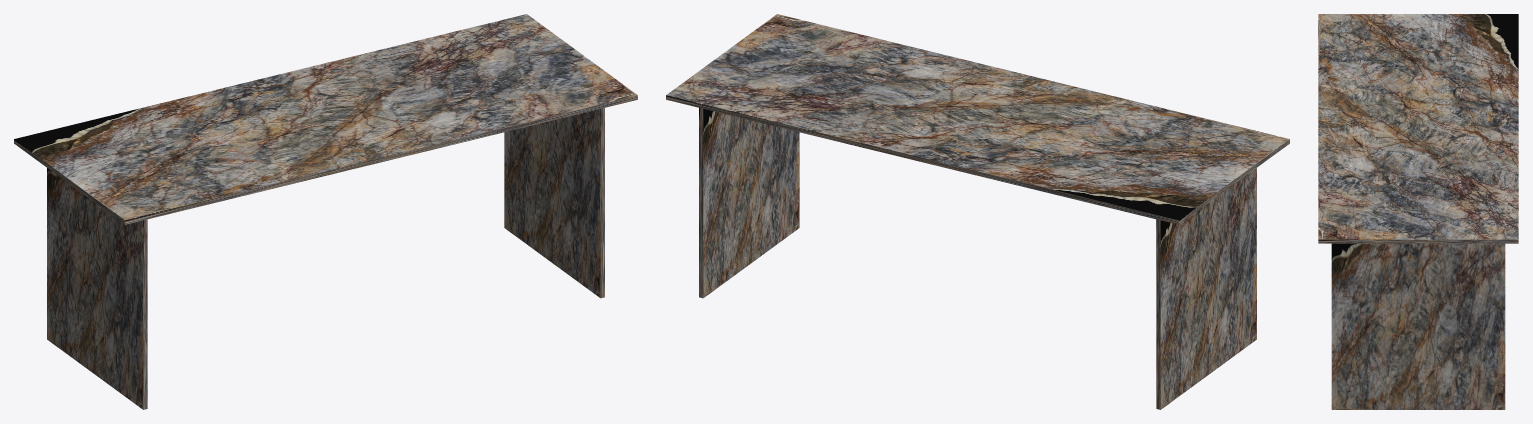
3 renders of one model, left to right at view 1: azimuth 30°, elevation 25°; view 2: azimuth 150°, elevation 25°; view 3: azimuth 270°, elevation 25°, orthographic. The views are drawn at different scales.
Bounding box in the file's own units: 2.4 × 0.9 × 0.9.
Materials: 1 (1 with a texture image).
